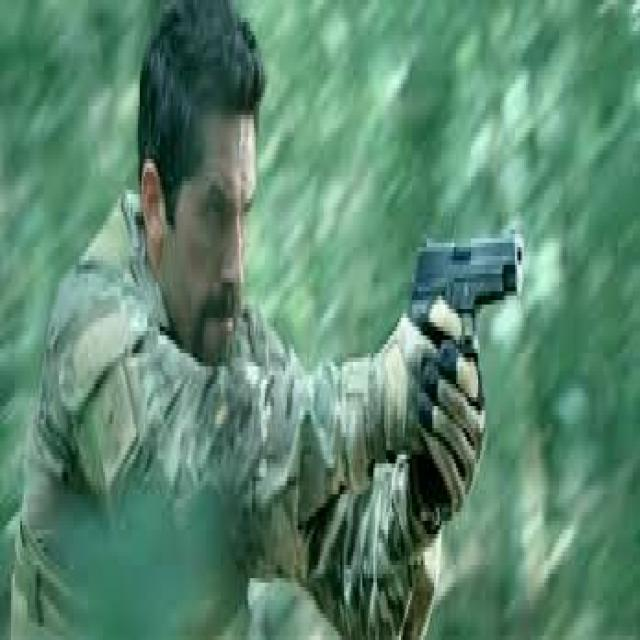gun: (402, 200, 530, 466)
